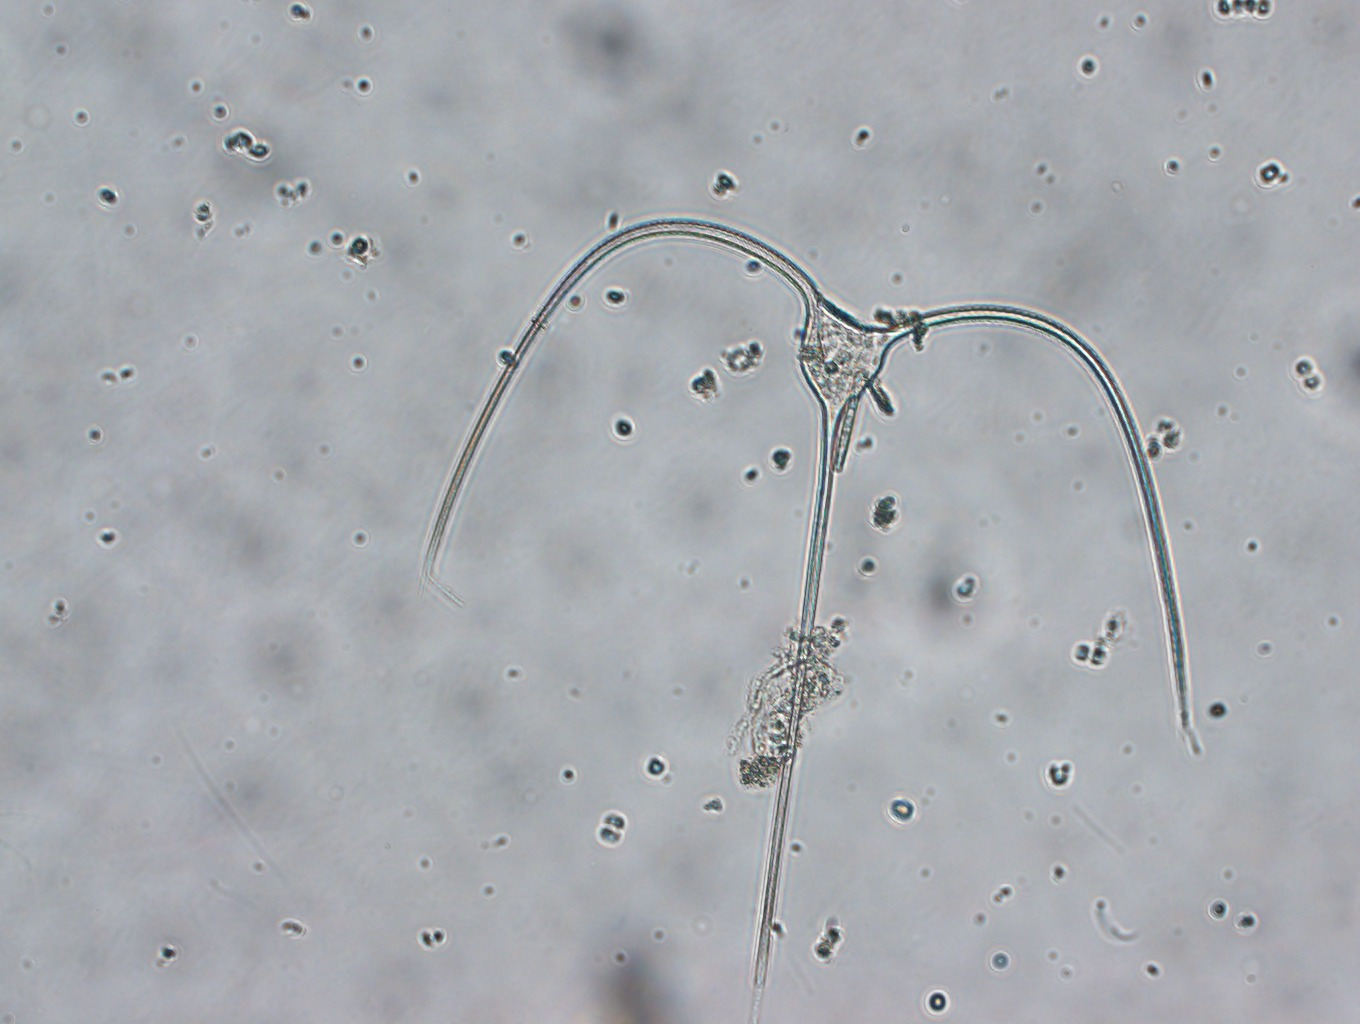ceratium trichoceros: (410, 198, 1209, 1024)
